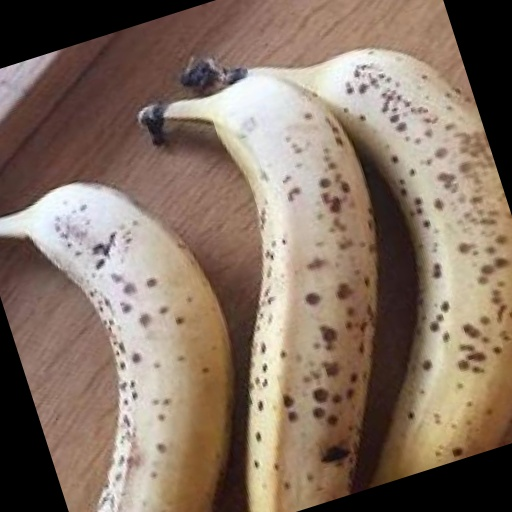fruit: (21, 112, 434, 512), (265, 61, 472, 354), (130, 0, 357, 138), (473, 115, 512, 425)
